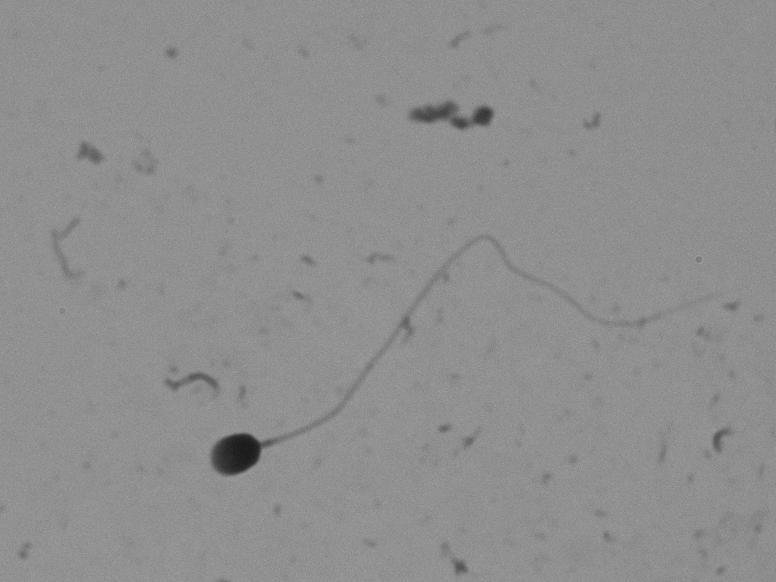Normal: (174, 181, 734, 523)
